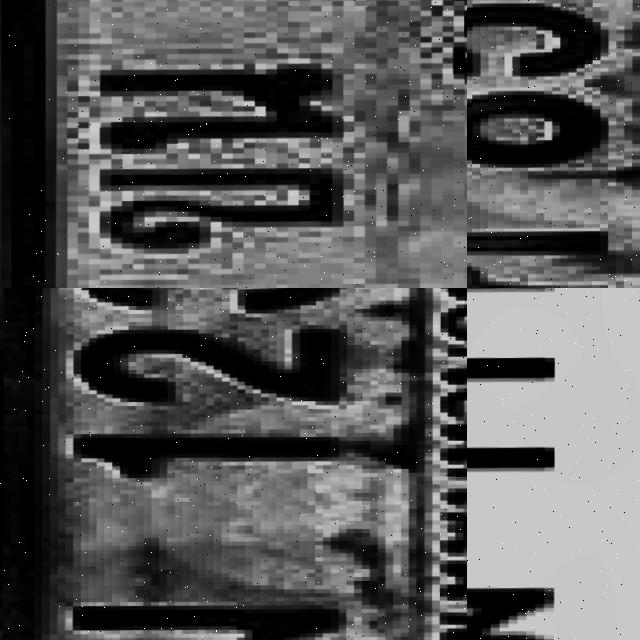license-plate: (0, 288, 467, 640), (0, 0, 467, 288), (467, 288, 640, 640), (467, 0, 640, 288)
